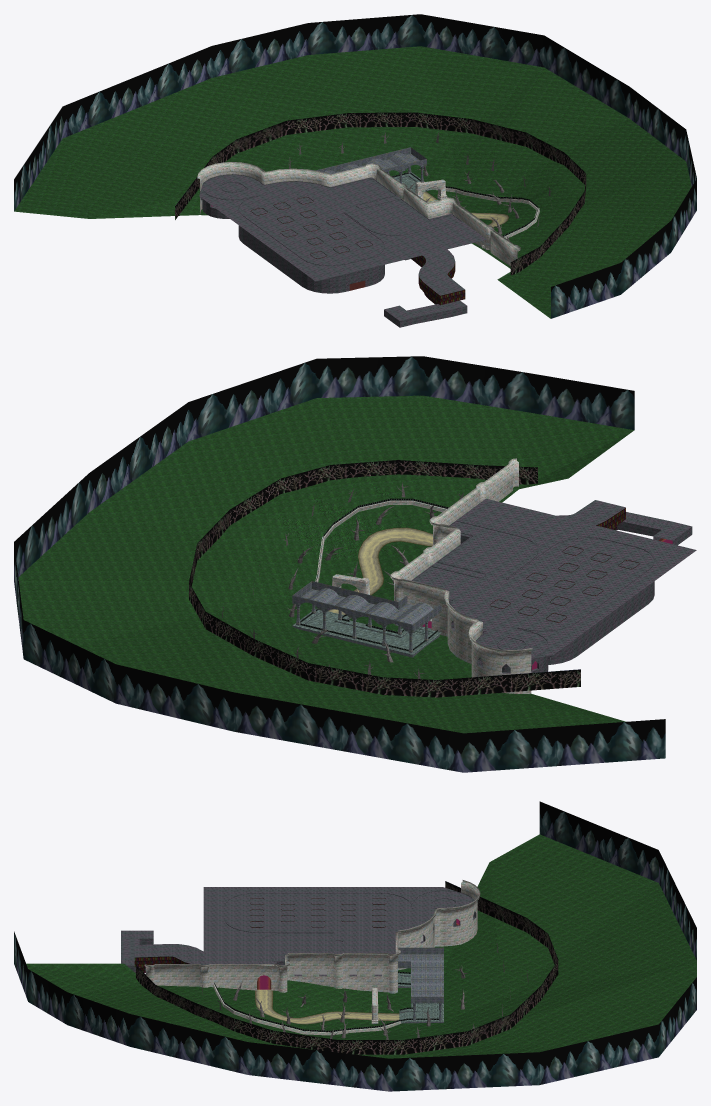
The picture shows the model from 3 angles, top to bottom: view 1: azimuth 30°, elevation 25°; view 2: azimuth 150°, elevation 25°; view 3: azimuth 270°, elevation 25°; orthographic projection. The views are drawn at different scales.
Parts seen in each view (by area): view 1: Mesh.035, Mesh.020, Mesh.042, Mesh.000, Mesh.010, Mesh.043, Mesh.052, Mesh.051; view 2: Mesh.035, Mesh.020, Mesh.042, Mesh.000, Mesh.010, Mesh.001, Mesh.002, Mesh.051, Mesh.052, Mesh.043, Mesh.044; view 3: Mesh.035, Mesh.020, Mesh.042, Mesh.000, Mesh.010, Mesh.002, Mesh.051, Mesh.052, Mesh.001, Mesh.043, Mesh.044.
Boxes of the visible parts, box(x1,y1,x2,y2) form: Mesh.035: box(14, 46, 691, 318); Mesh.020: box(14, 14, 696, 318); Mesh.042: box(199, 174, 486, 327); Mesh.000: box(197, 162, 520, 265); Mesh.010: box(315, 147, 430, 191); Mesh.043: box(250, 197, 465, 305); Mesh.052: box(415, 179, 539, 248); Mesh.051: box(288, 132, 552, 241); Mesh.035: box(18, 395, 633, 733); Mesh.020: box(14, 356, 665, 772); Mesh.042: box(411, 498, 696, 673); Mesh.000: box(390, 458, 532, 693); Mesh.010: box(292, 581, 441, 657); Mesh.001: box(293, 608, 441, 654); Mesh.002: box(328, 527, 432, 614); Mesh.051: box(222, 482, 463, 679); Mesh.052: box(315, 500, 446, 594); Mesh.043: box(490, 508, 639, 622); Mesh.044: box(300, 498, 448, 651); Mesh.035: box(26, 834, 696, 1058); Mesh.020: box(14, 801, 696, 1091); Mesh.042: box(121, 887, 476, 976); Mesh.000: box(144, 880, 480, 993); Mesh.010: box(398, 947, 443, 1023); Mesh.002: box(254, 989, 399, 1024); Mesh.051: box(202, 943, 528, 1039); Mesh.052: box(213, 984, 401, 1035); Mesh.001: box(398, 973, 443, 1022); Mesh.043: box(134, 898, 386, 972); Mesh.044: box(214, 971, 438, 1032).
Bounding box in the file's own units: 136967 × 18401 × 145353.
16 materials, 15 textured.
